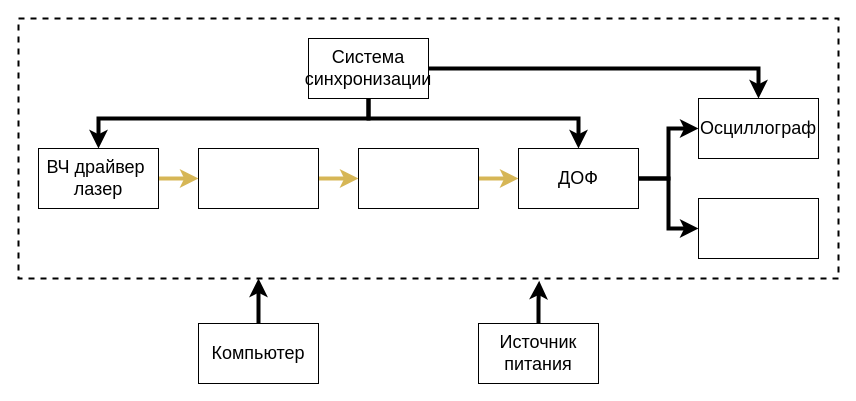
This 856x401 diagram has some shape labels left out. Here are the shapes that lost their labels. From the top down, the centre of each, then its label:
At point (258, 178): "Система оптических светоделителей".
At point (418, 178): "Аттенюаторы".
At point (758, 228): "Частотомер".
